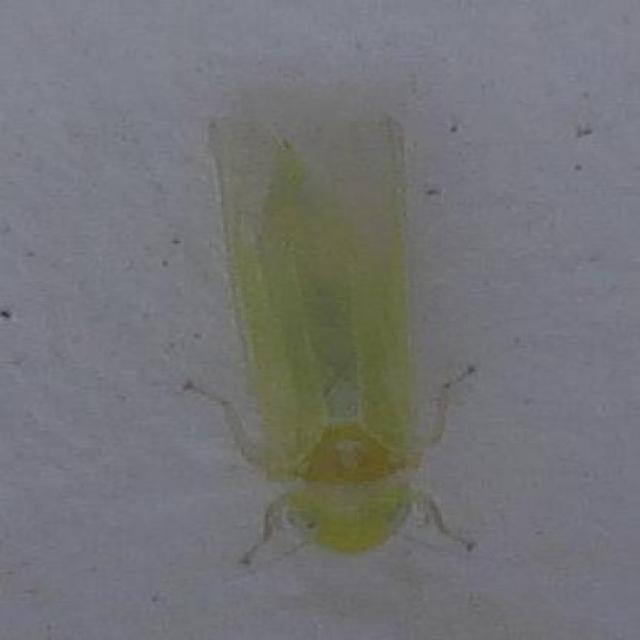green-leafhopper: (189, 111, 508, 571)
